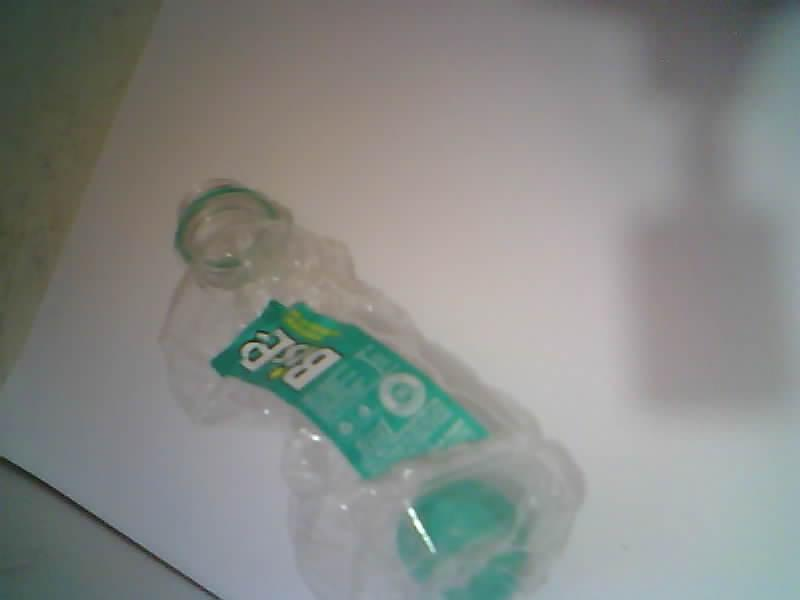non-biodegradable: (162, 185, 581, 599)
